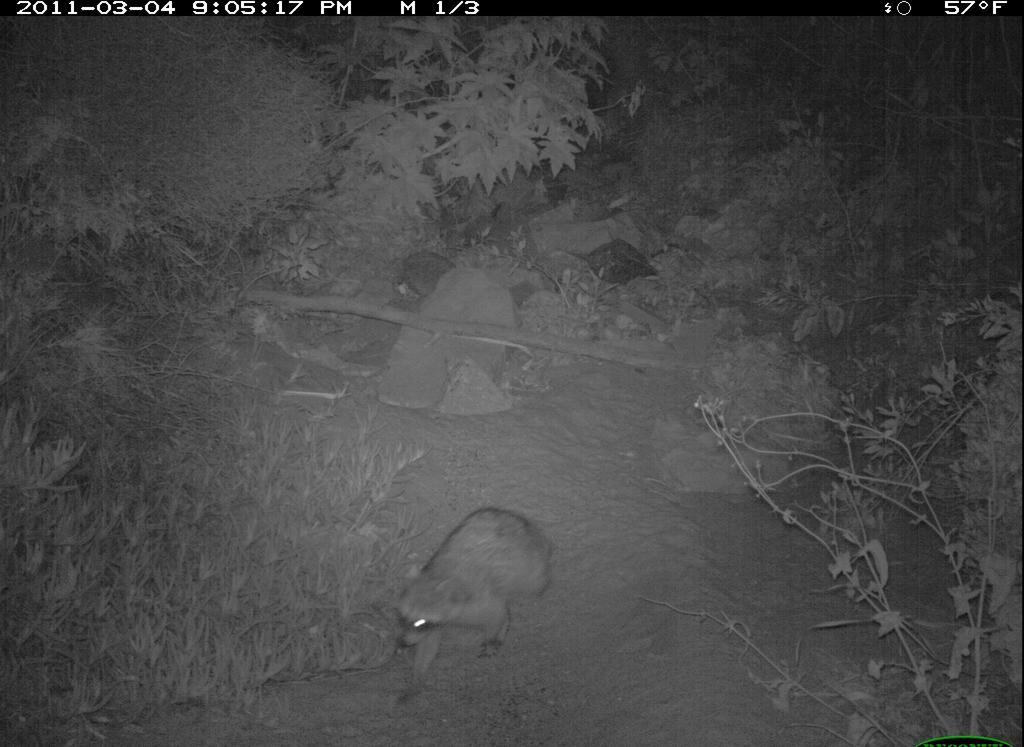raccoon: (377, 489, 566, 702)
